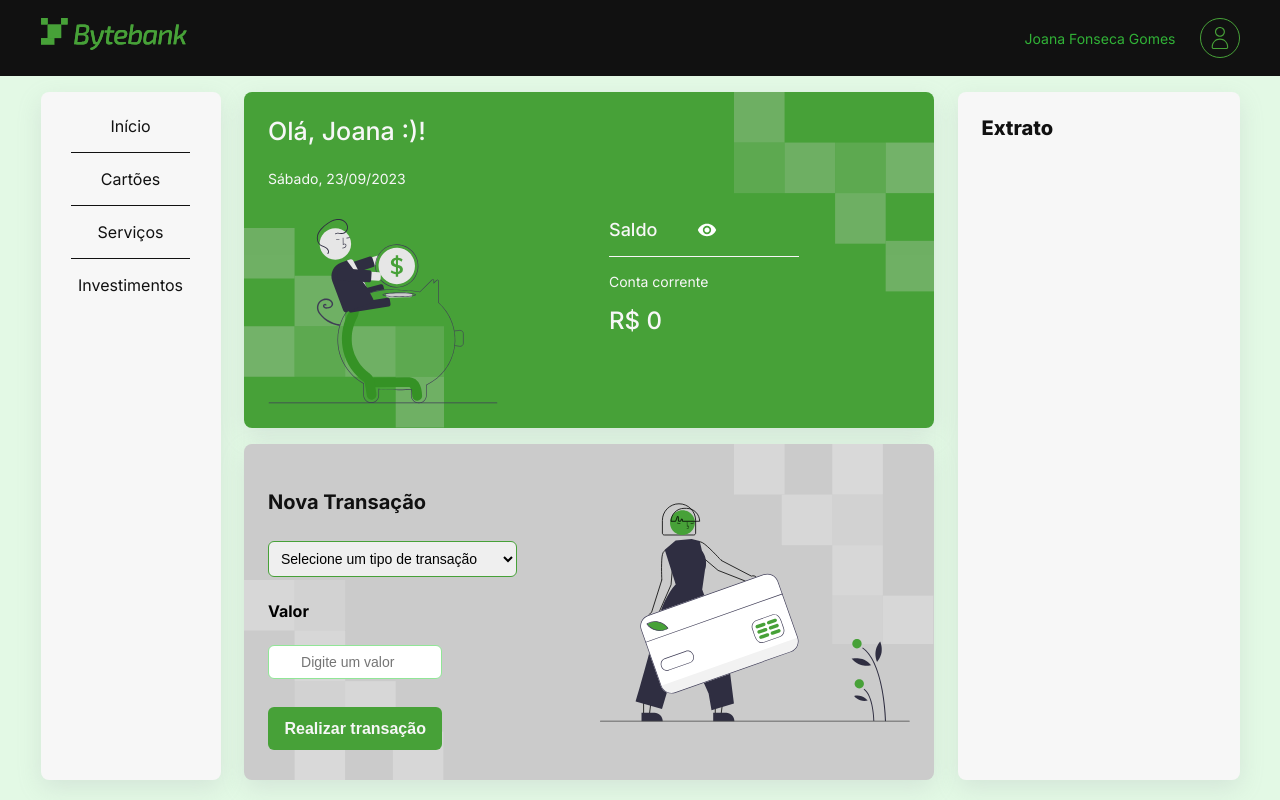
App › Deve Navegar até a pagina correspondente ao link clicado
Click the link "Cartões". click: point(130, 179)
box: [101, 169, 160, 189]
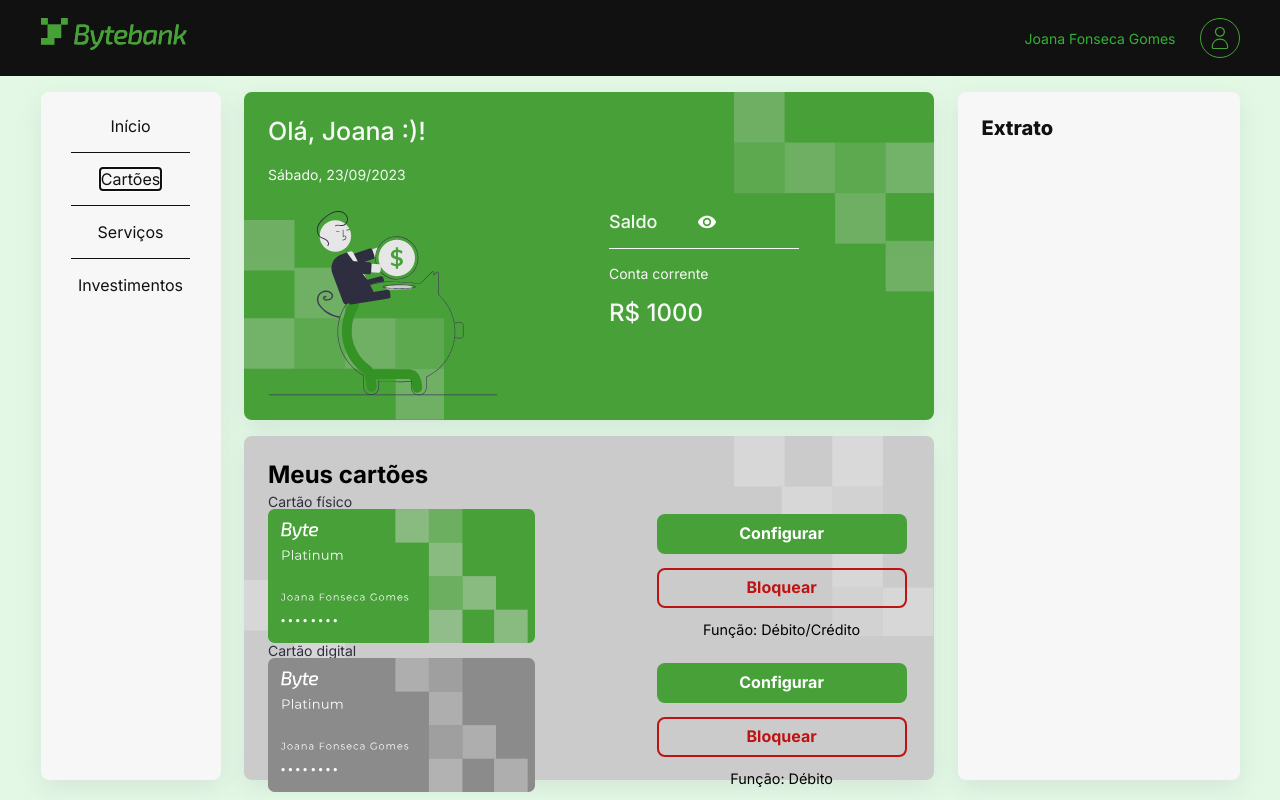
Check: the heading "Meus cartões" is shown, box [268, 460, 428, 489]
Click the link "Investimentos". click: point(130, 285)
box: [78, 275, 183, 295]
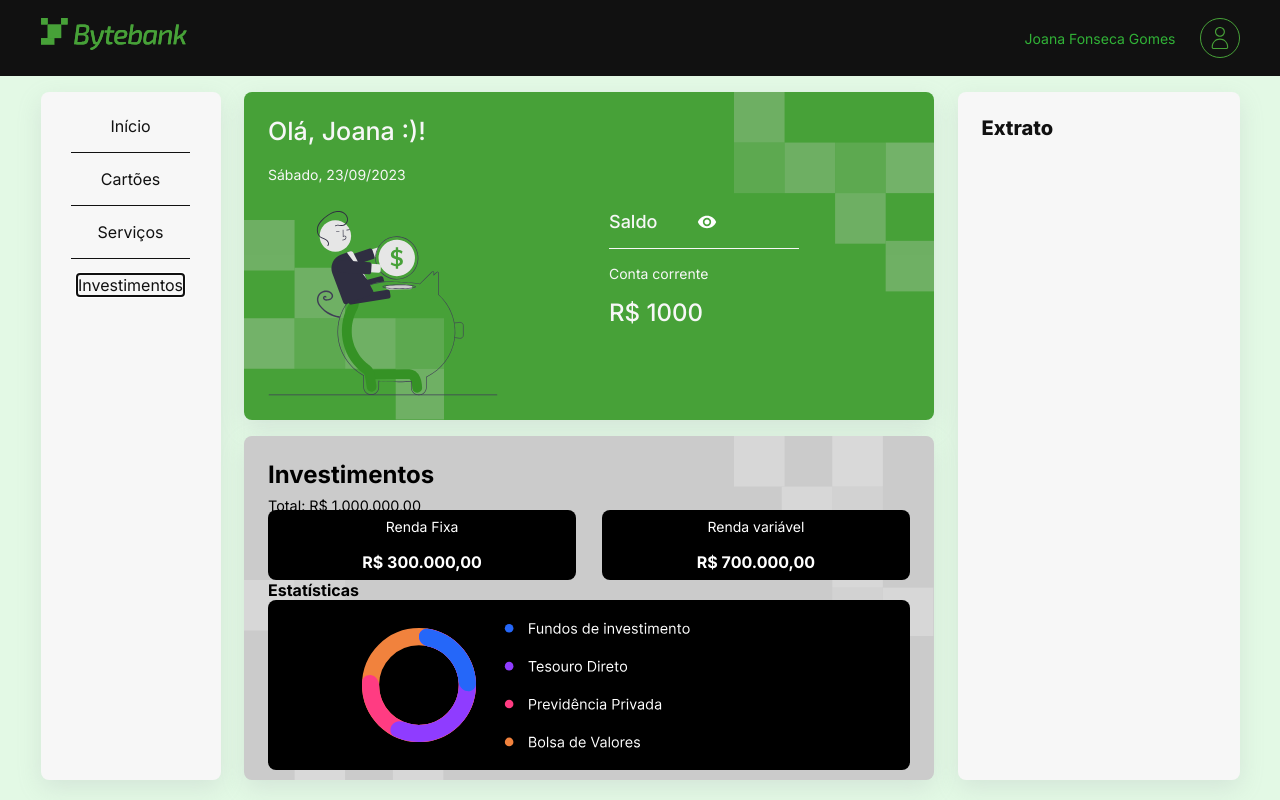
Check: the heading "Investimentos" is shown, box [268, 460, 434, 489]
Click the link "Serviços". click: point(130, 232)
box: [98, 222, 163, 242]
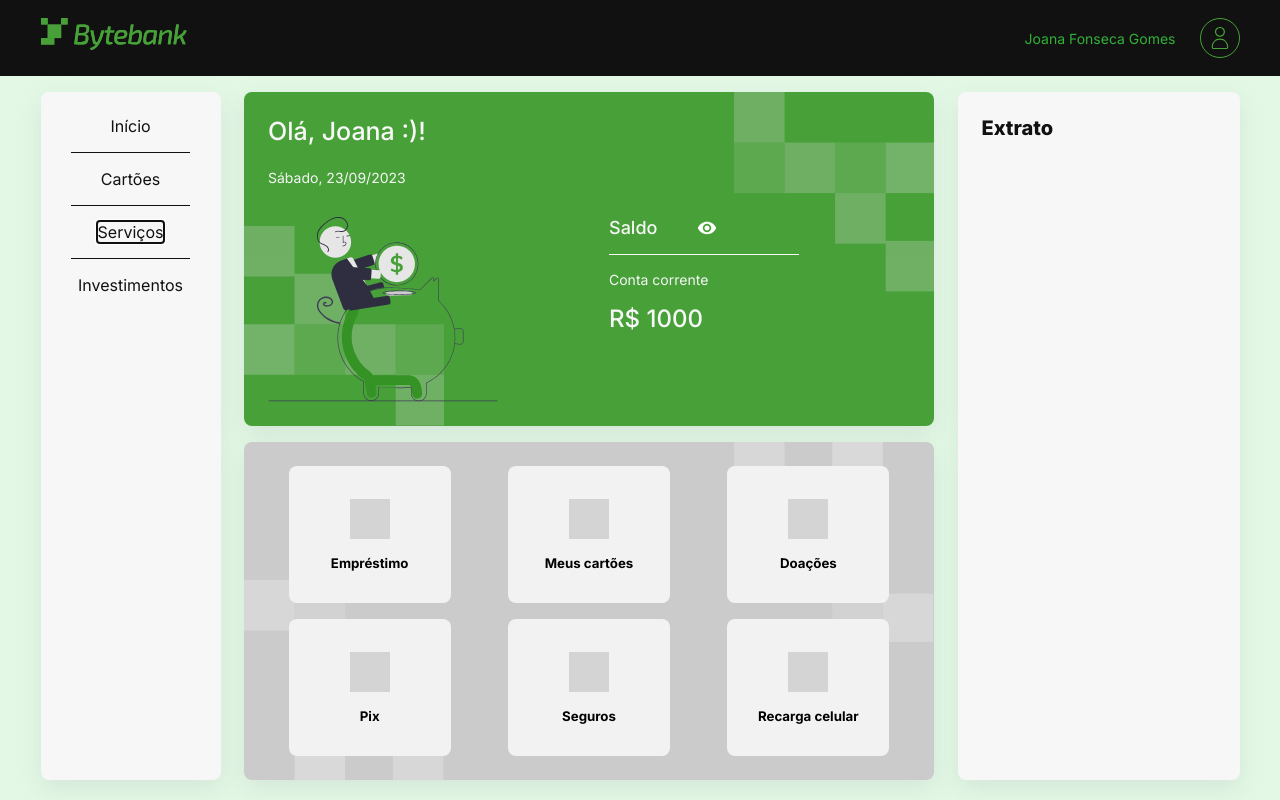
Check: the element with test id "lista-servicos" is shown, box [268, 466, 910, 756]
Click the link "Início". click: point(130, 126)
box: [110, 116, 151, 136]
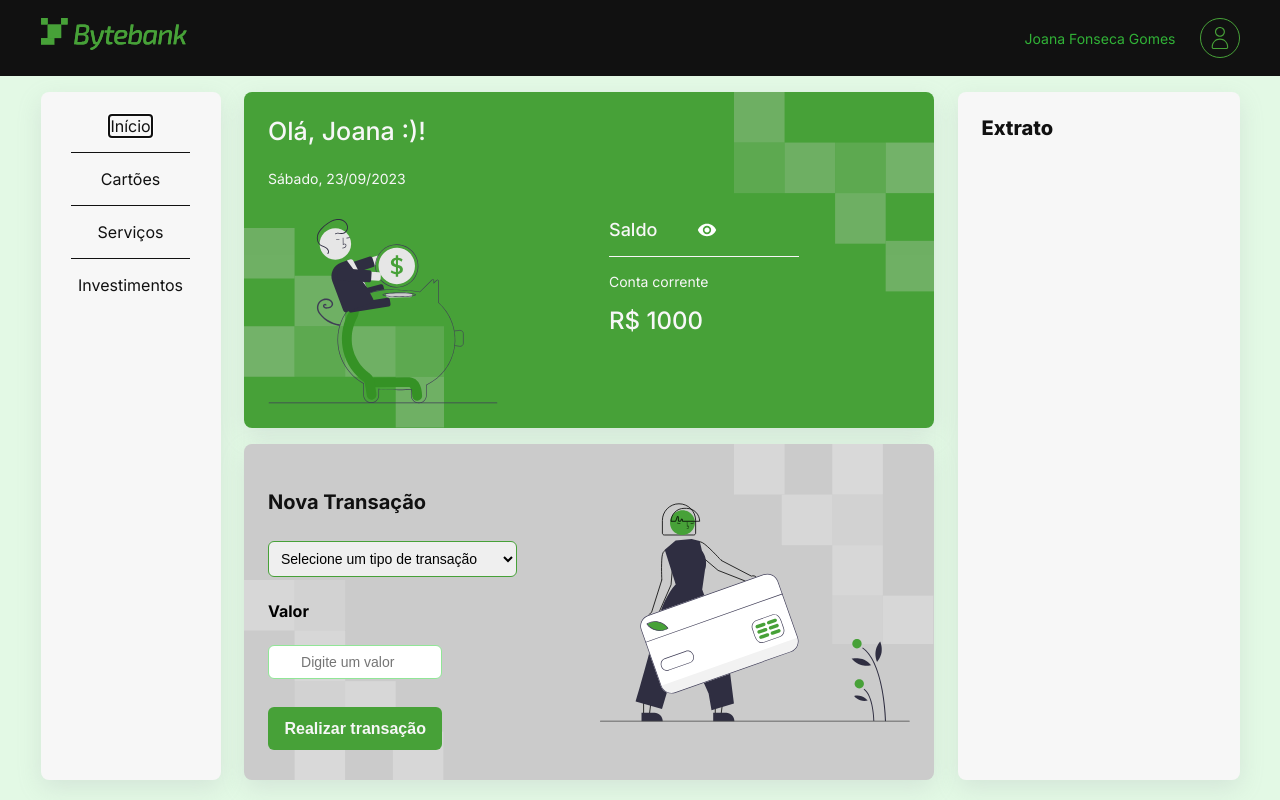
Check: the heading "Nova Transação" is shown, box [268, 490, 426, 514]
